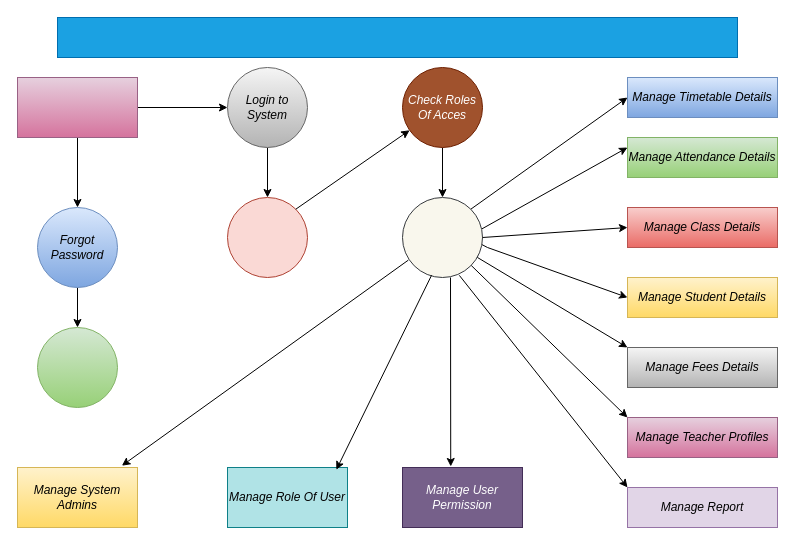
This 795x545 diagram has some shape labels left out. Each missing label, with the box of its shape:
Admin: (16, 76, 138, 138)
Check Credentials: (226, 196, 308, 278)
Manage Modules: (402, 196, 482, 278)
Send Email to User: (36, 326, 118, 408)
Student Information System: (56, 16, 738, 58)
